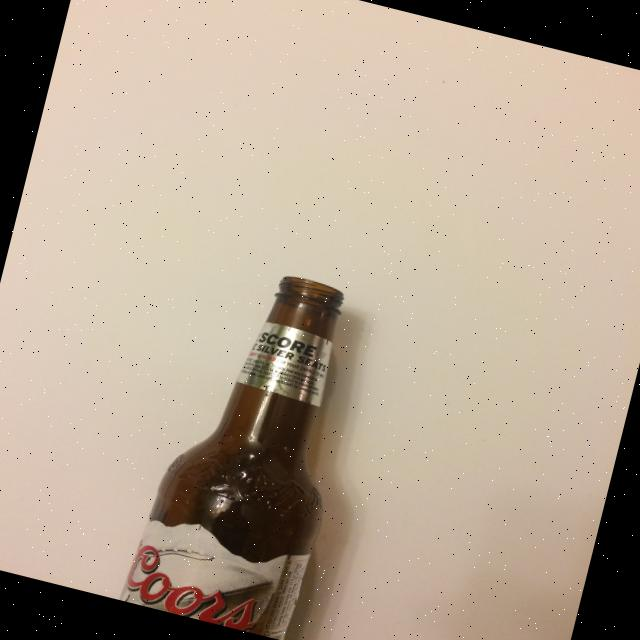glass: (118, 253, 378, 640)
